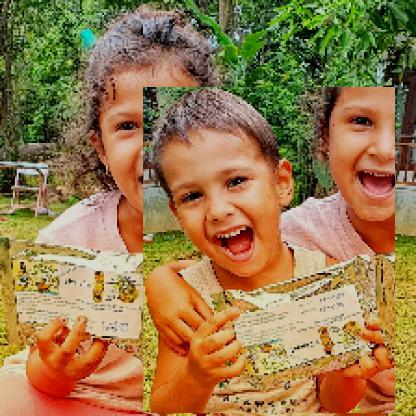child: (14, 5, 261, 416), (144, 88, 397, 415)
